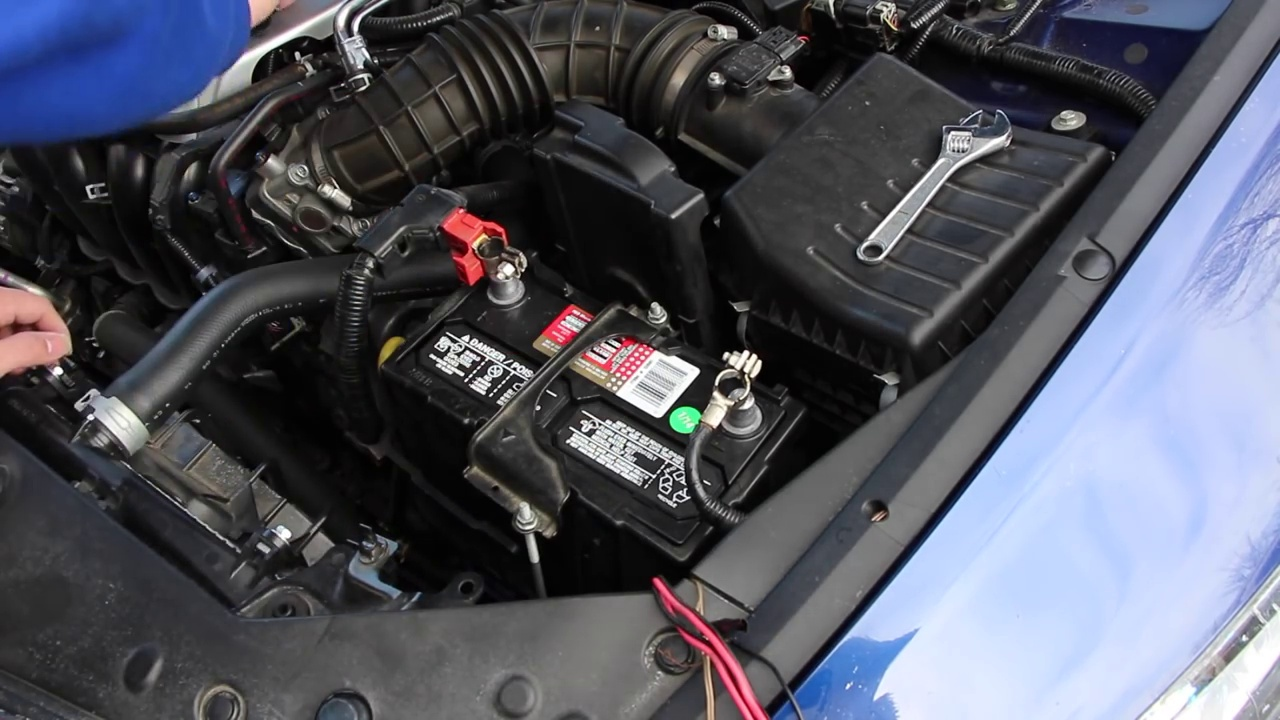battery: (386, 248, 792, 561)
neg_disconnected: (664, 317, 772, 453)
pos_connected: (431, 210, 541, 332)
